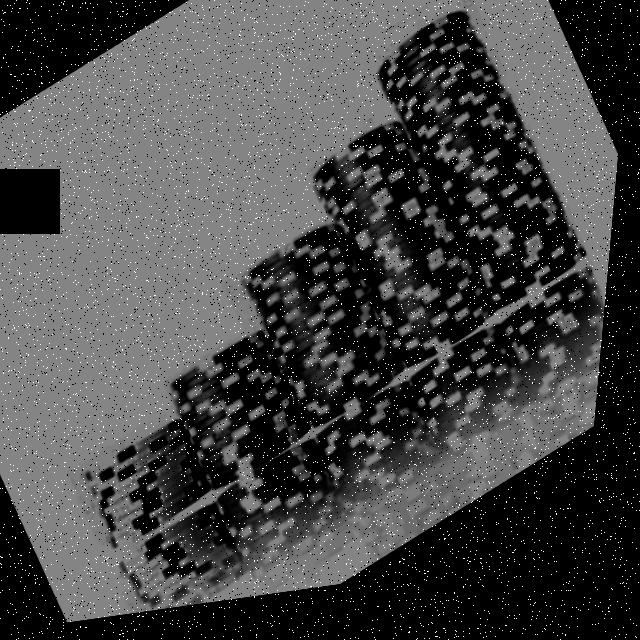Chip: (345, 0, 623, 359), (286, 105, 519, 409), (225, 211, 429, 460), (157, 319, 336, 516), (76, 408, 236, 571)
